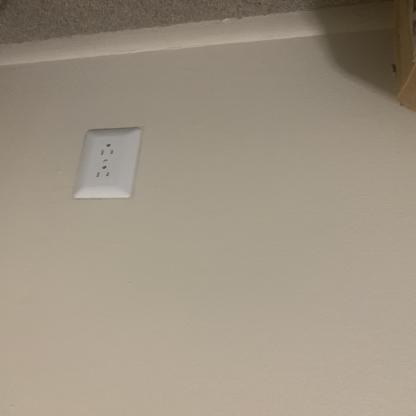OUTLET: (71, 128, 143, 200)
